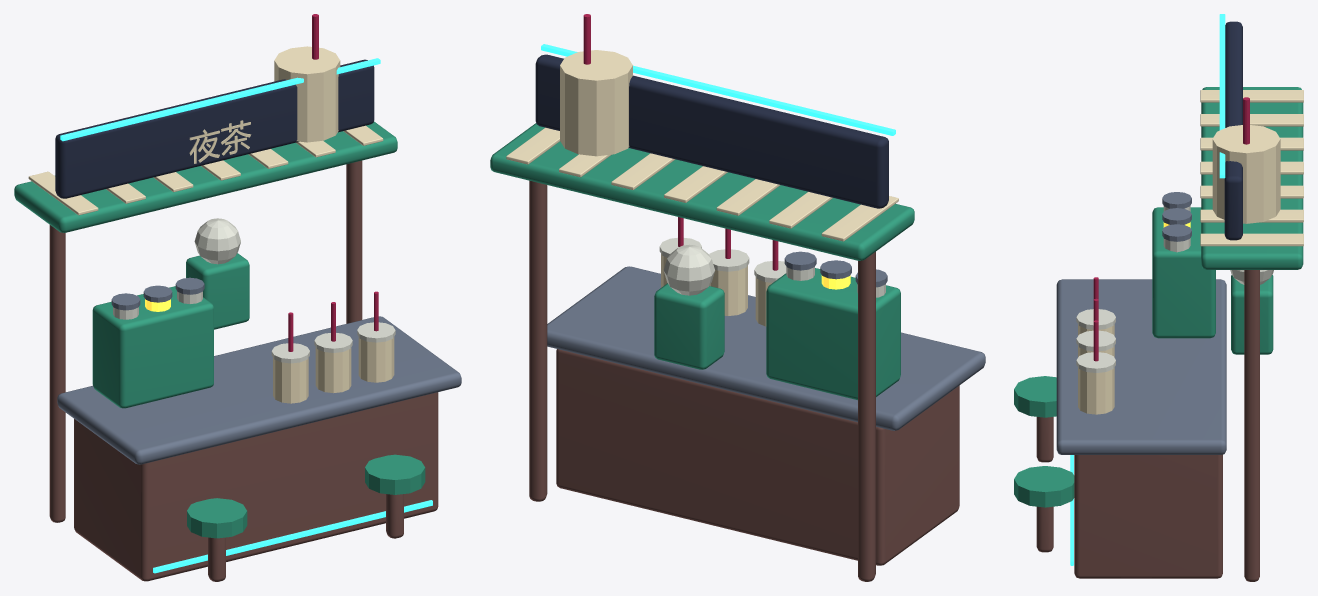
Rendered from stall_tea.glb.
3 views of the same model, side by side, from view 1: azimuth 30°, elevation 25°; view 2: azimuth 150°, elevation 25°; view 3: azimuth 270°, elevation 25° (orthographic). The views are drawn at different scales.
Visible parts, largest first — view 1: stall_tea_Warm wood, stall_tea_Tea canvas, stall_tea_Brushed metal, stall_tea_Midnight enamel, stall_tea_Cream lettering, stall_tea_Porcelain, stall_tea_Neon jade, stall_tea_Crimson jacket; view 2: stall_tea_Warm wood, stall_tea_Tea canvas, stall_tea_Brushed metal, stall_tea_Midnight enamel, stall_tea_Cream lettering, stall_tea_Porcelain, stall_tea_Neon jade, stall_tea_Crimson jacket; view 3: stall_tea_Warm wood, stall_tea_Brushed metal, stall_tea_Tea canvas, stall_tea_Cream lettering, stall_tea_Midnight enamel, stall_tea_Porcelain, stall_tea_Neon jade, stall_tea_Crimson jacket.
Part boxes in pixels (x1,y1,x2,y2): stall_tea_Warm wood: (49,160,438,581); stall_tea_Tea canvas: (14,121,425,538); stall_tea_Brushed metal: (57,277,461,464); stall_tea_Midnight enamel: (55,59,374,198); stall_tea_Cream lettering: (28,46,394,403); stall_tea_Porcelain: (113,218,395,363); stall_tea_Neon jade: (60,58,432,573); stall_tea_Crimson jacket: (288,14,378,351); stall_tea_Warm wood: (529,180,959,581); stall_tea_Tea canvas: (490,123,914,400); stall_tea_Brushed metal: (547,251,985,430); stall_tea_Midnight enamel: (535,54,888,208); stall_tea_Cream lettering: (506,50,898,326); stall_tea_Porcelain: (659,237,885,297); stall_tea_Neon jade: (541,44,895,135); stall_tea_Crimson jacket: (583,14,778,270); stall_tea_Warm wood: (1036,270,1259,581); stall_tea_Brushed metal: (1056,192,1226,454); stall_tea_Tea canvas: (1014,87,1303,507); stall_tea_Cream lettering: (1078,90,1303,414); stall_tea_Midnight enamel: (1224,21,1242,240); stall_tea_Porcelain: (1076,206,1273,372); stall_tea_Neon jade: (1070,14,1225,565); stall_tea_Crimson jacket: (1093,97,1249,361).
Size of the model in its own units: 2.85 by 3.59 by 2.05.
